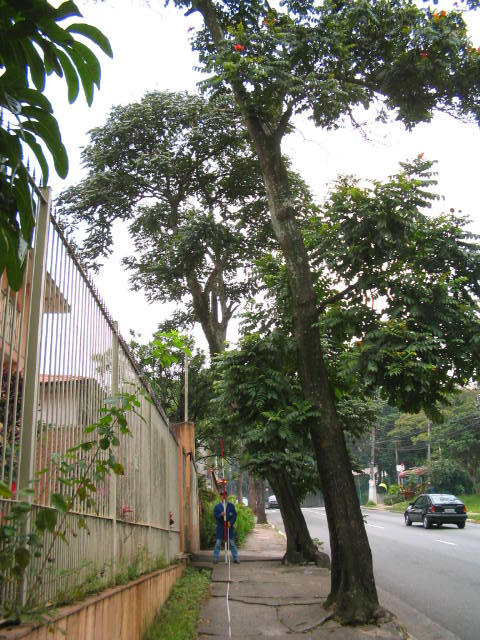stem: (262, 477, 324, 565)
stick: (214, 436, 232, 564)
